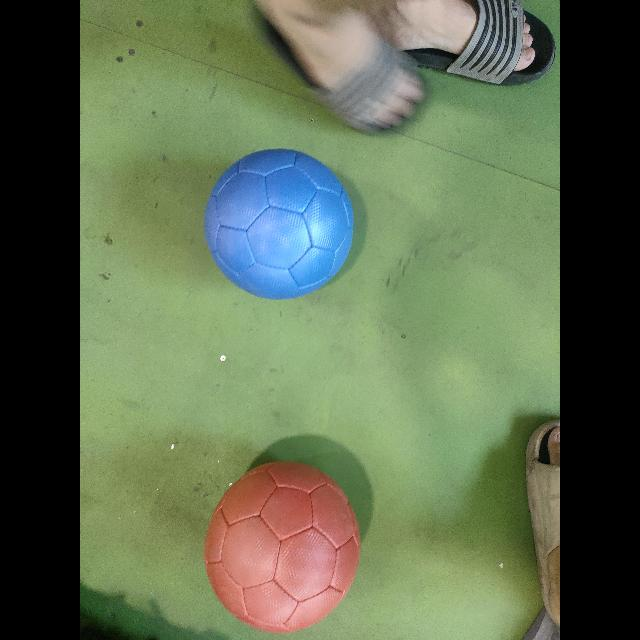B: (205, 150, 354, 299)
R: (205, 462, 360, 632)
